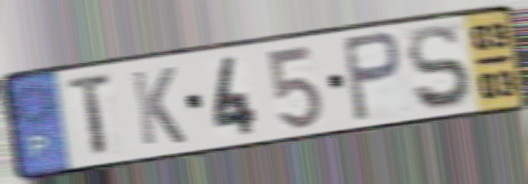4: (211, 53, 261, 139)
5: (264, 40, 326, 131)
K: (128, 64, 189, 149)
P: (339, 28, 405, 124)
S: (404, 22, 474, 113)
T: (66, 69, 115, 161)
